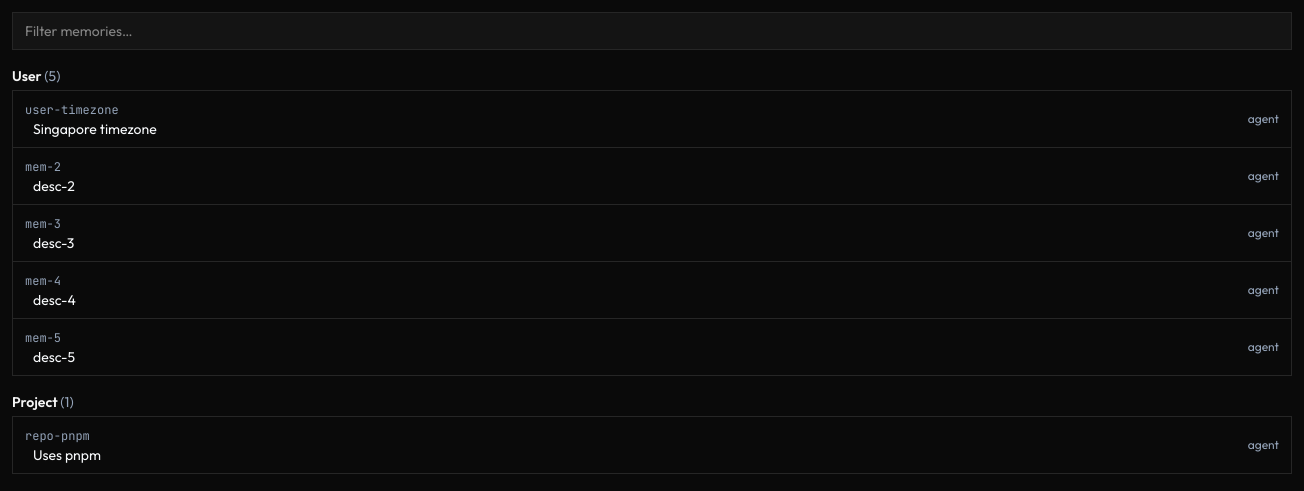
Scenario: MemoryList › filters memories by name and description
The width and height of the screenshot is (1304, 491).
Type "singapore" into the search field with placeholder "Filter memories…". click: (652, 31)
box: [12, 12, 1292, 50]
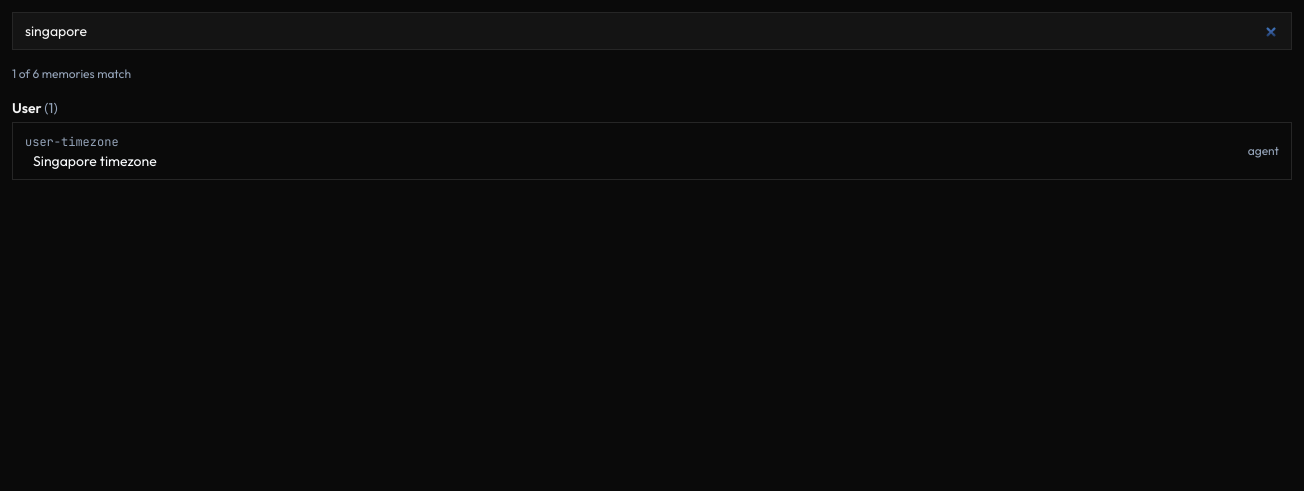
Expected: the text "user-timezone" is shown, [25, 134, 119, 150]
Expected: the button "repo-pnpm" is gone
